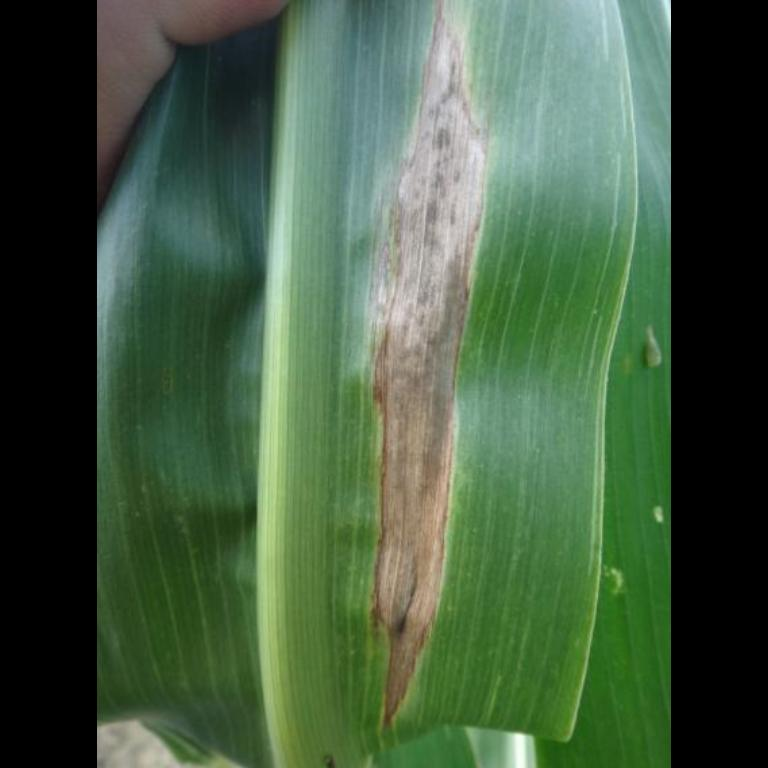blight: (347, 24, 484, 728)
